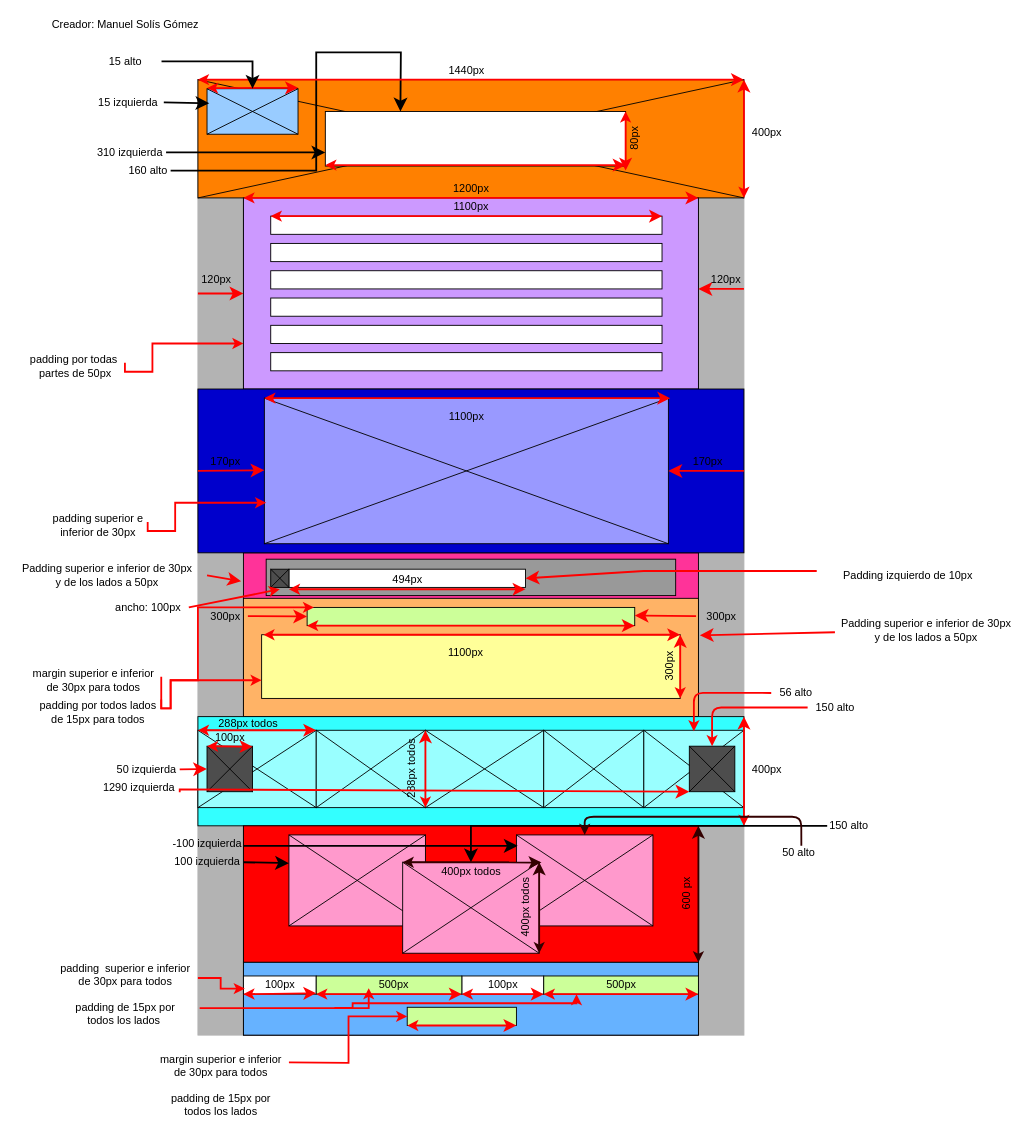
The diagram is 1032 pixels wide and 1133 high, and some of its shapes have lost their labels. Each missing label, with the centre of its shape:
"200px" goes at [252,111].
"350px" goes at [461,1015].
"600px" goes at [470,616].
"820px" goes at [475,138].
